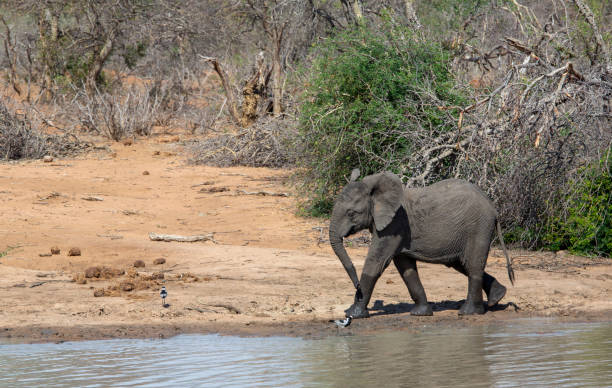africanelephant: (317, 170, 403, 256)
